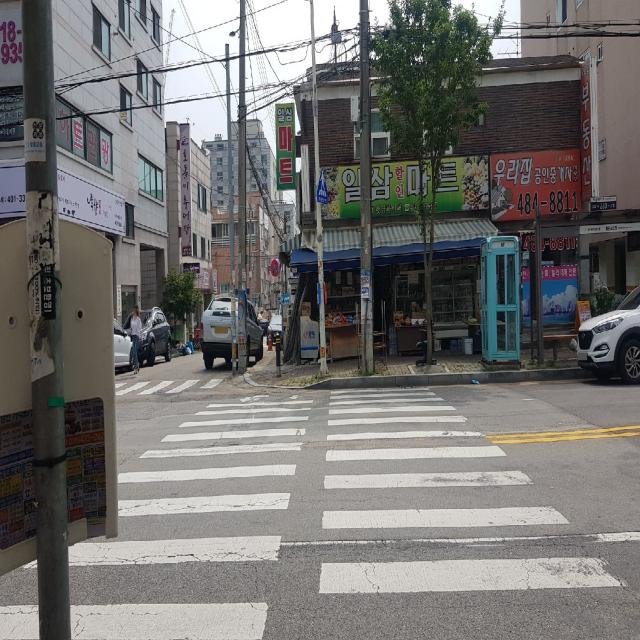횡단보도: (0, 385, 631, 640), (116, 377, 226, 396)
